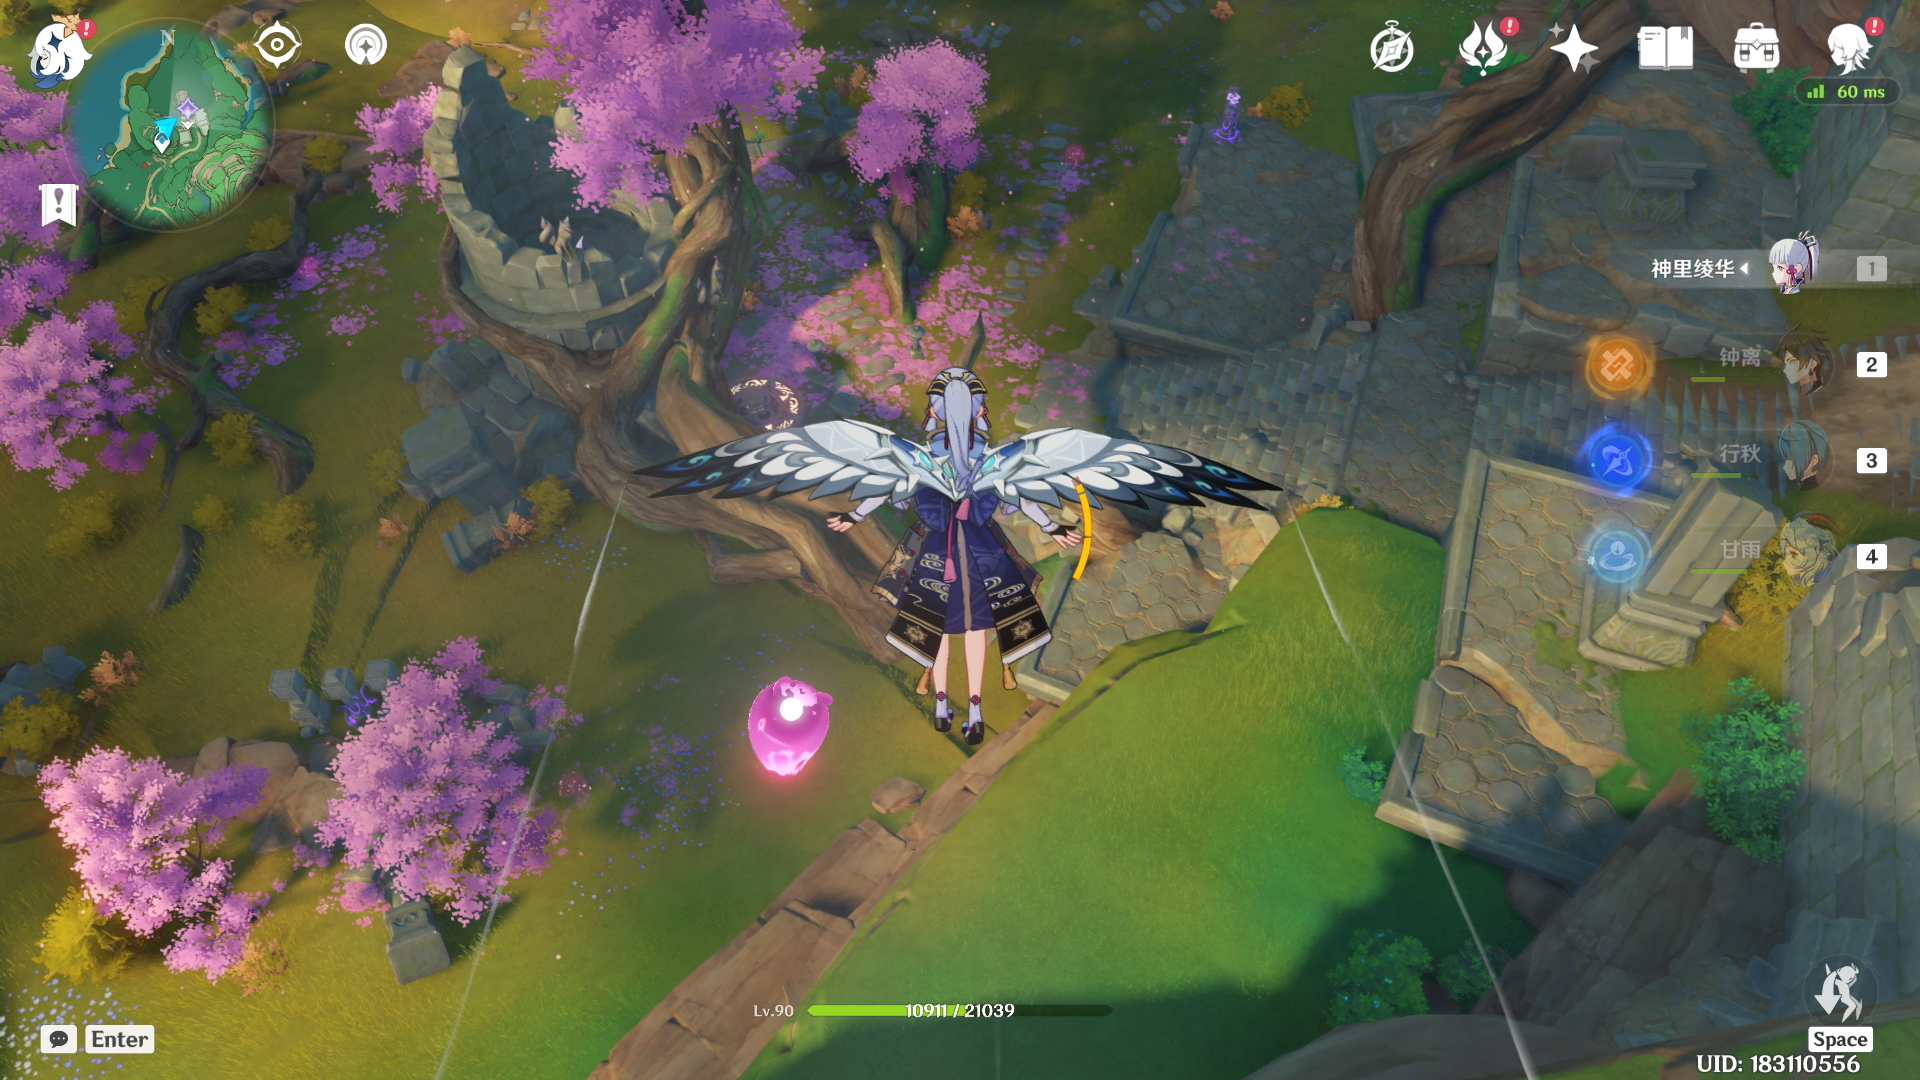character: (770, 323, 1150, 760)
